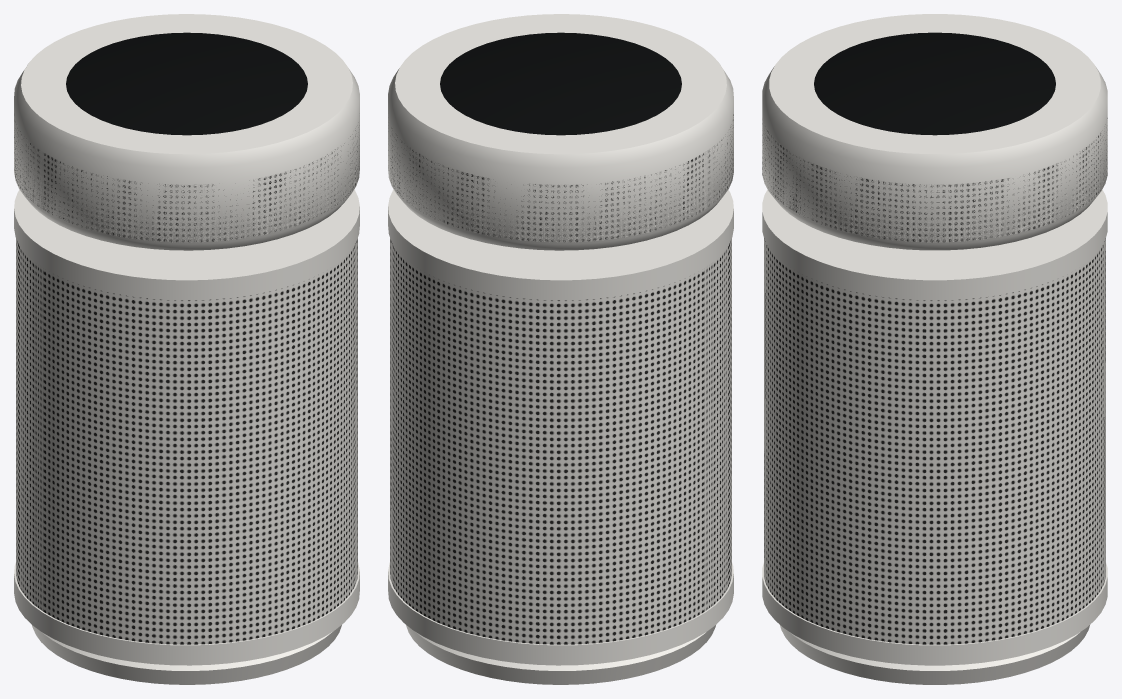
Rendered from AS195DWWA.glb.
3 views of the same model, side by side, from view 1: azimuth 30°, elevation 25°; view 2: azimuth 150°, elevation 25°; view 3: azimuth 270°, elevation 25° (orthographic).
Visible parts, largest first — view 1: AS195DWWA; view 2: AS195DWWA; view 3: AS195DWWA.
Part boxes in pixels (bbox=[...]): AS195DWWA: bbox=[14, 14, 359, 684]; AS195DWWA: bbox=[388, 14, 733, 684]; AS195DWWA: bbox=[762, 14, 1107, 684].
Size of the model in its own units: 0.343 by 0.587 by 0.343.
4 materials, 1 textured.
